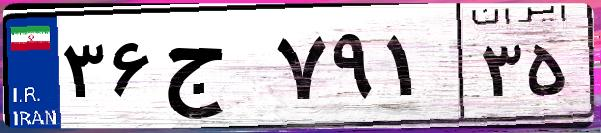1: (385, 28, 445, 110)
3: (57, 26, 110, 100), (475, 38, 525, 113)
5: (525, 38, 570, 115)
6: (110, 28, 158, 98)
7: (270, 28, 330, 110)
9: (330, 28, 385, 110)
ج: (158, 20, 270, 120)
